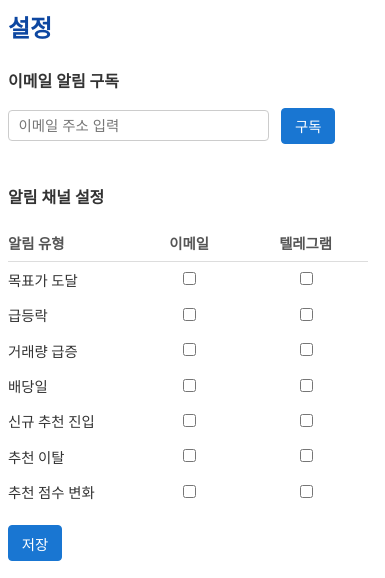
Scenario: Settings 페이지 › 구독 해지 성공 시 이메일 폼으로 전환
Type "test@example.com" into the field labelled "이메일 주소 입력" at (139, 126), box [8,110,269,141]
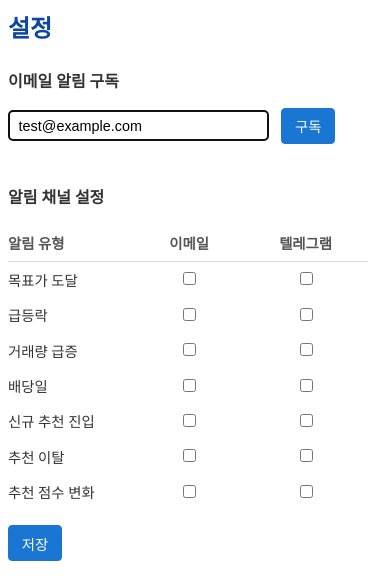
Click the button "구독" at (308, 126), box [281,108,335,144]
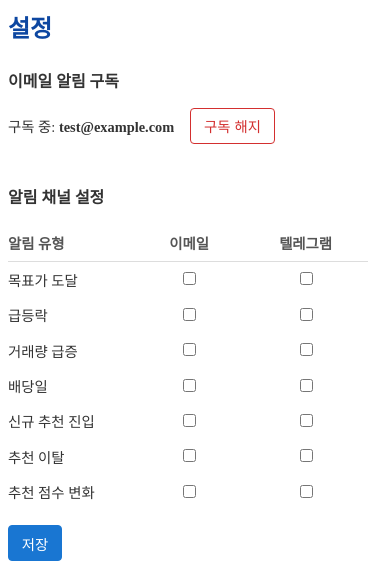
Expected: the button "구독 해지" is shown
Click the button "구독 해지" at (232, 126), box [190,108,275,144]
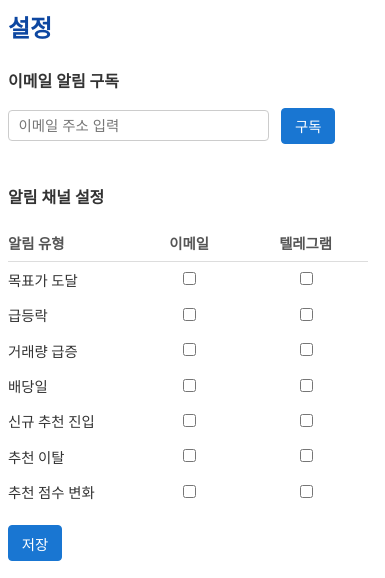
Expected: the field labelled "이메일 주소 입력" is shown, [8,110,269,141]
Expected: the button "구독 해지" is gone
